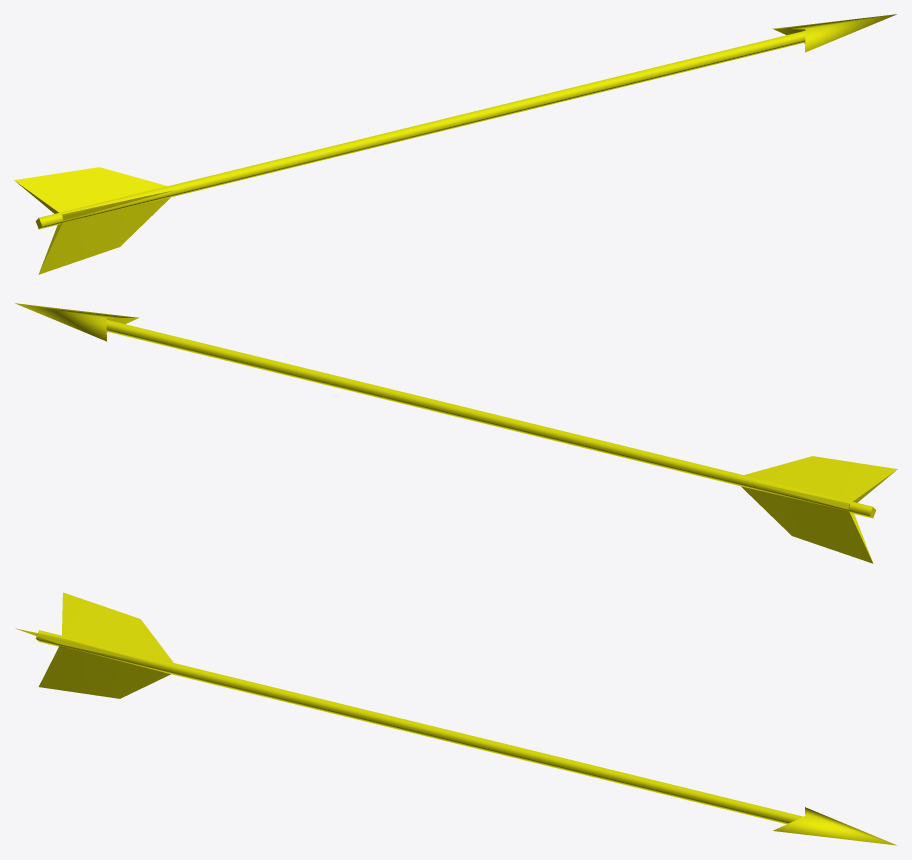
File: arrow.glb
The picture shows the model from 3 angles, top to bottom: view 1: azimuth 30°, elevation 25°; view 2: azimuth 150°, elevation 25°; view 3: azimuth 330°, elevation 25°; orthographic projection.
Parts seen in each view (by area): view 1: arrow; view 2: arrow; view 3: arrow.
Part boxes in pixels (box(x1,y1,x2,y2)): arrow: box(14, 14, 896, 274); arrow: box(15, 303, 897, 563); arrow: box(15, 592, 897, 845).
Size of the model in its own units: 0.00899 by 0.000768 by 0.000887.
1 material, 1 textured.
